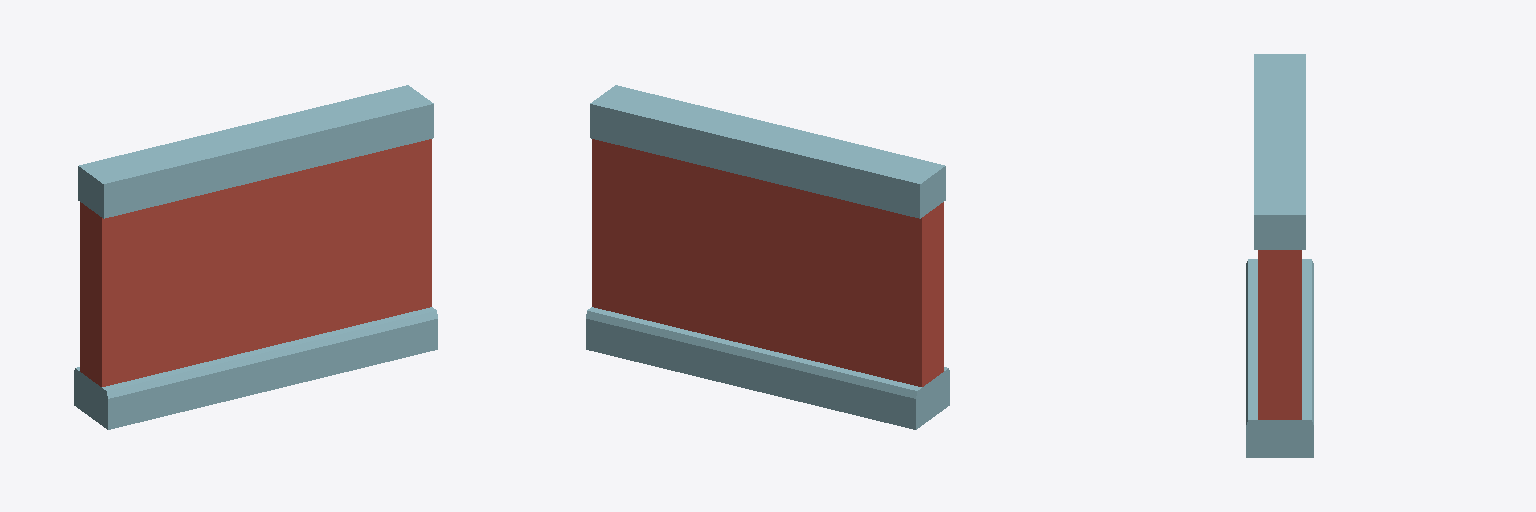
The model's file is brickWall.obj.
3 views of the same model, side by side, from view 1: azimuth 30°, elevation 25°; view 2: azimuth 150°, elevation 25°; view 3: azimuth 270°, elevation 25° (orthographic).
Parts seen in each view (by area): view 1: brickWall; view 2: brickWall; view 3: brickWall.
Part boxes in pixels (x1,y1,x2,y2): brickWall: (74,85,437,429); brickWall: (586,85,949,429); brickWall: (1246,54,1313,457).
Size of the model in its own units: 1 by 0.7019 by 0.18.